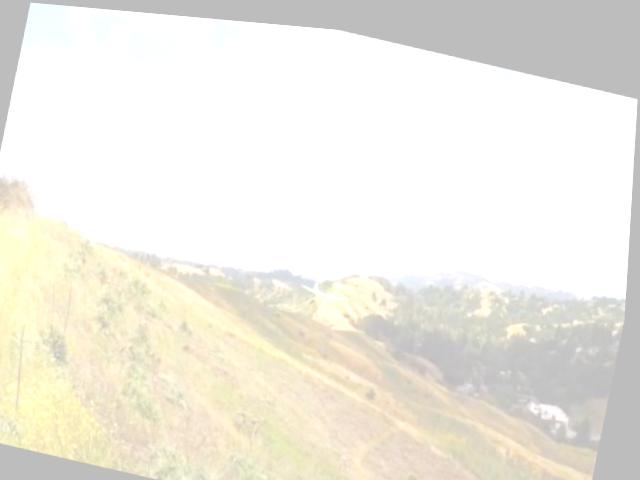iha: (302, 274, 353, 300)
